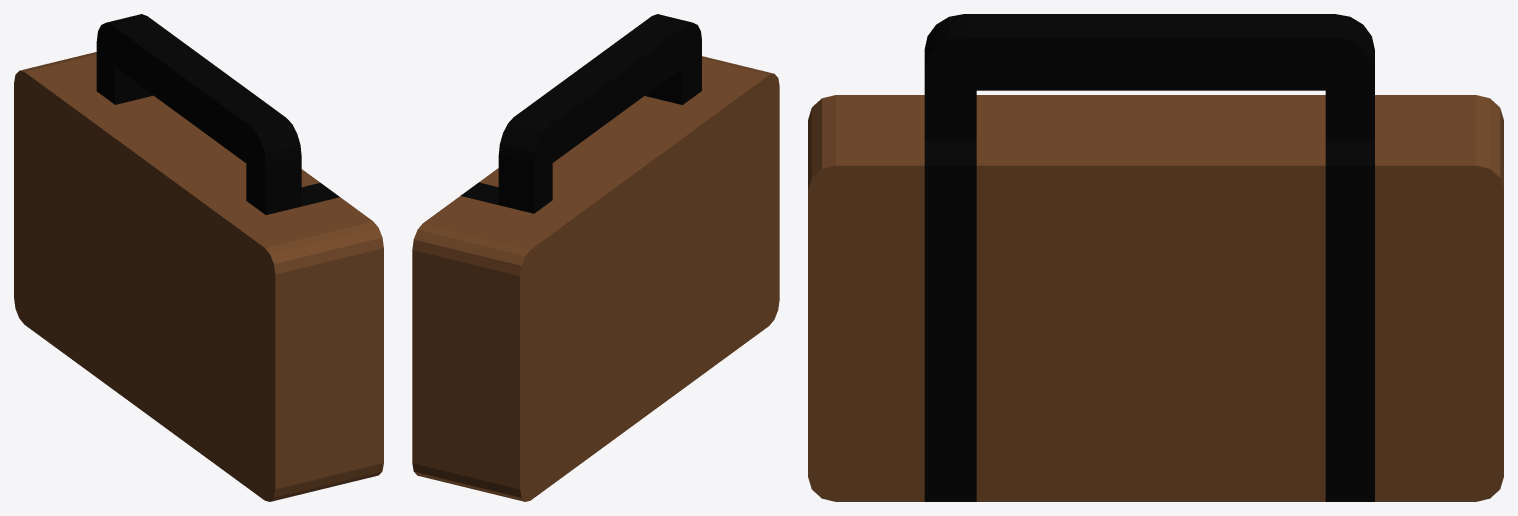
The model's file is Mala.fbx.
The picture shows the model from 3 angles, left to right: view 1: azimuth 30°, elevation 25°; view 2: azimuth 150°, elevation 25°; view 3: azimuth 270°, elevation 25°; orthographic projection. The views are drawn at different scales.
Parts seen in each view (by area): view 1: Cube; view 2: Cube; view 3: Cube.
Boxes of the visible parts, x1,y1,x2,y2 form: Cube: (14,14,383,501); Cube: (412,14,779,501); Cube: (808,14,1503,501).
Size of the model in its own units: 89.95 by 261 by 375.
